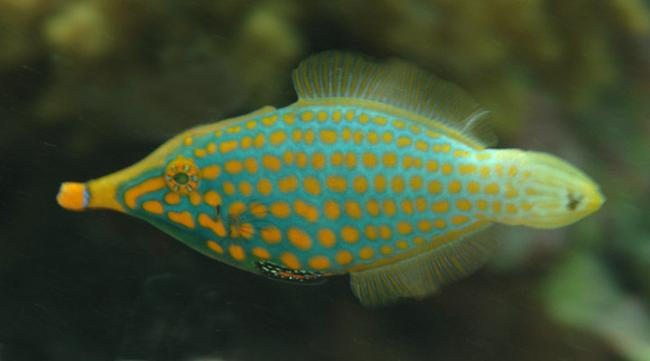fish: (56, 50, 606, 306)
